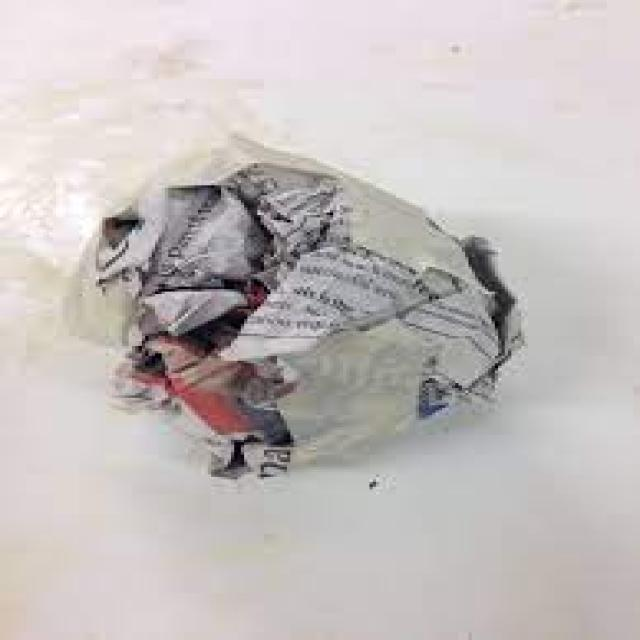newspaper: (55, 128, 528, 482)
